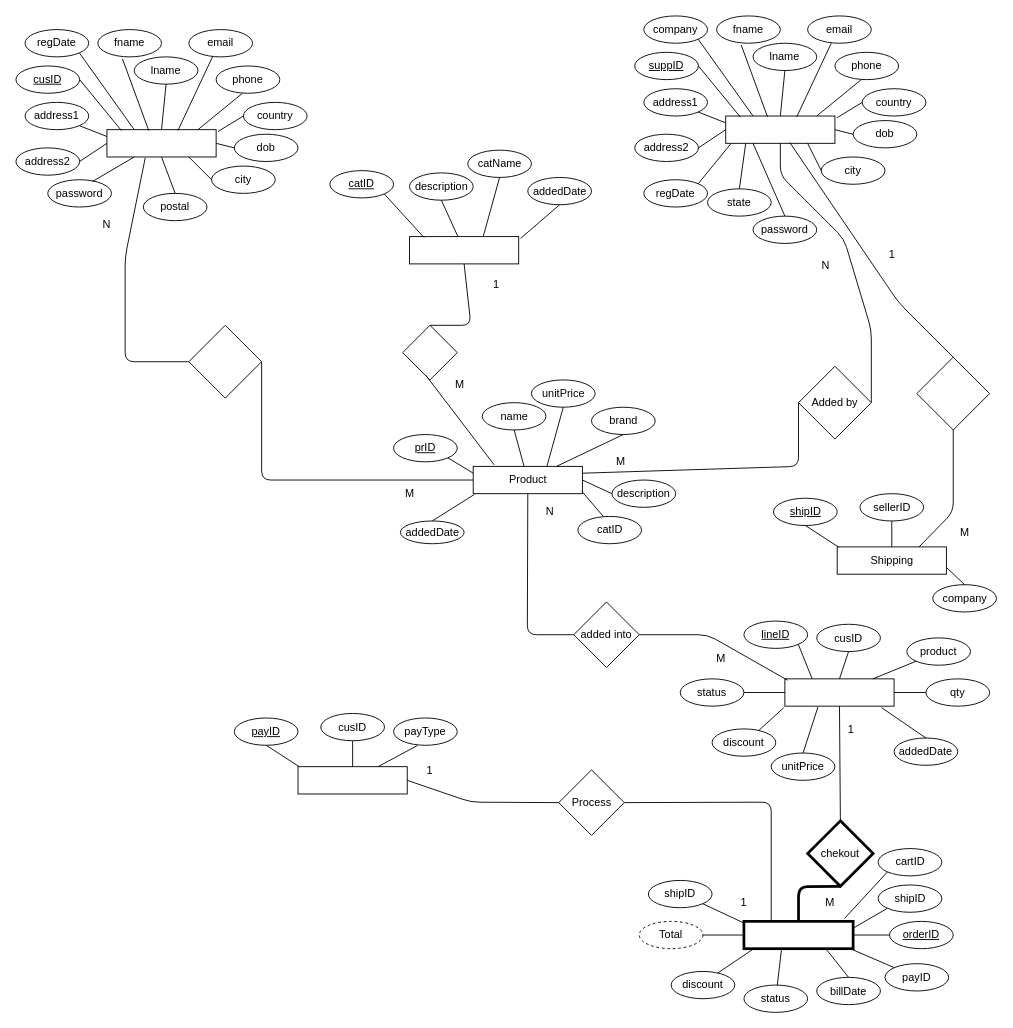
The diagram is 1013 pixels wide and 1028 high, and some of its shapes have lost their labels. Here are the shapes that lost their labels. From the top down, the centre of each, then its label:
At pixel 161 143: "Customer".
At pixel 780 129: "Buyer".
At pixel 464 250: "Category".
At pixel 225 361: "Search".
At pixel 429 352: "Sorted".
At pixel 953 393: "Arrange".
At pixel 839 692: "cartLine".
At pixel 352 780: "Payment".
At pixel 798 935: "Order".
